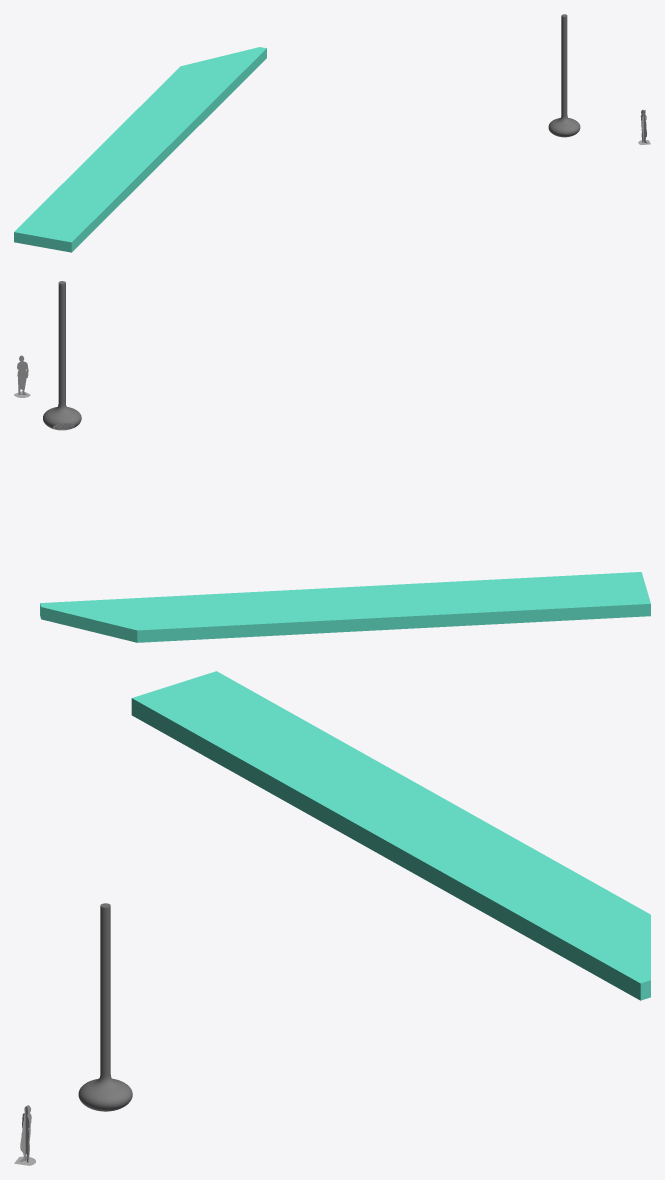
File: rac_basic_sample_project_Level_1_Living_Rm_IfcBuildingElementProxy.dae
3 views of the same model, one above another, from view 1: azimuth 30°, elevation 25°; view 2: azimuth 150°, elevation 25°; view 3: azimuth 270°, elevation 25° (orthographic). The views are drawn at different scales.
Parts seen in each view (by area): view 1: 1RUi90wQT3ihQ$96bMNGp7, 1DaGnOS6v2iOJfBoPtVOcK; view 2: 1RUi90wQT3ihQ$96bMNGp7, 1DaGnOS6v2iOJfBoPtVOcK; view 3: 1RUi90wQT3ihQ$96bMNGp7, 1DaGnOS6v2iOJfBoPtVOcK.
Part boxes in pixels (x1,y1,x2,y2): 1RUi90wQT3ihQ$96bMNGp7: (14,47,266,252); 1DaGnOS6v2iOJfBoPtVOcK: (548,14,580,137); 1RUi90wQT3ihQ$96bMNGp7: (40,572,650,642); 1DaGnOS6v2iOJfBoPtVOcK: (43,281,81,430); 1RUi90wQT3ihQ$96bMNGp7: (131,671,650,1000); 1DaGnOS6v2iOJfBoPtVOcK: (78,903,132,1111).
Size of the model in its own units: 32.73 by 18.39 by 6.71.
